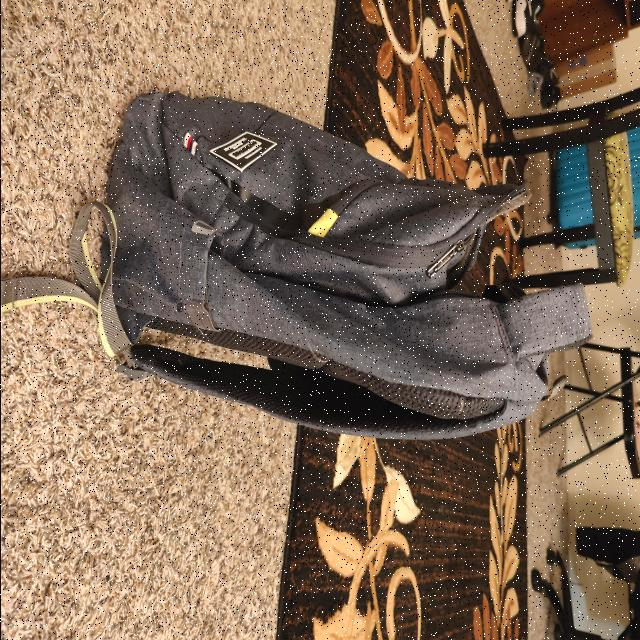bag: (98, 130, 586, 436)
